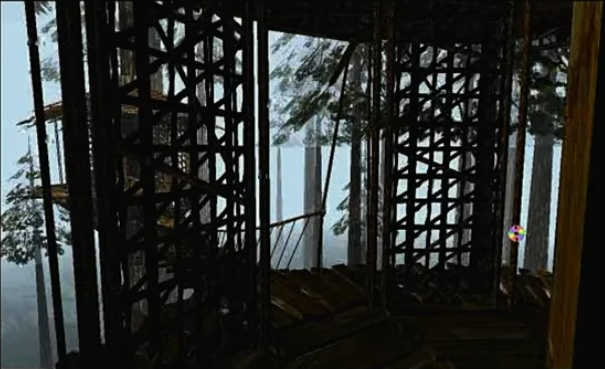Waiting: (504, 221, 528, 243)
